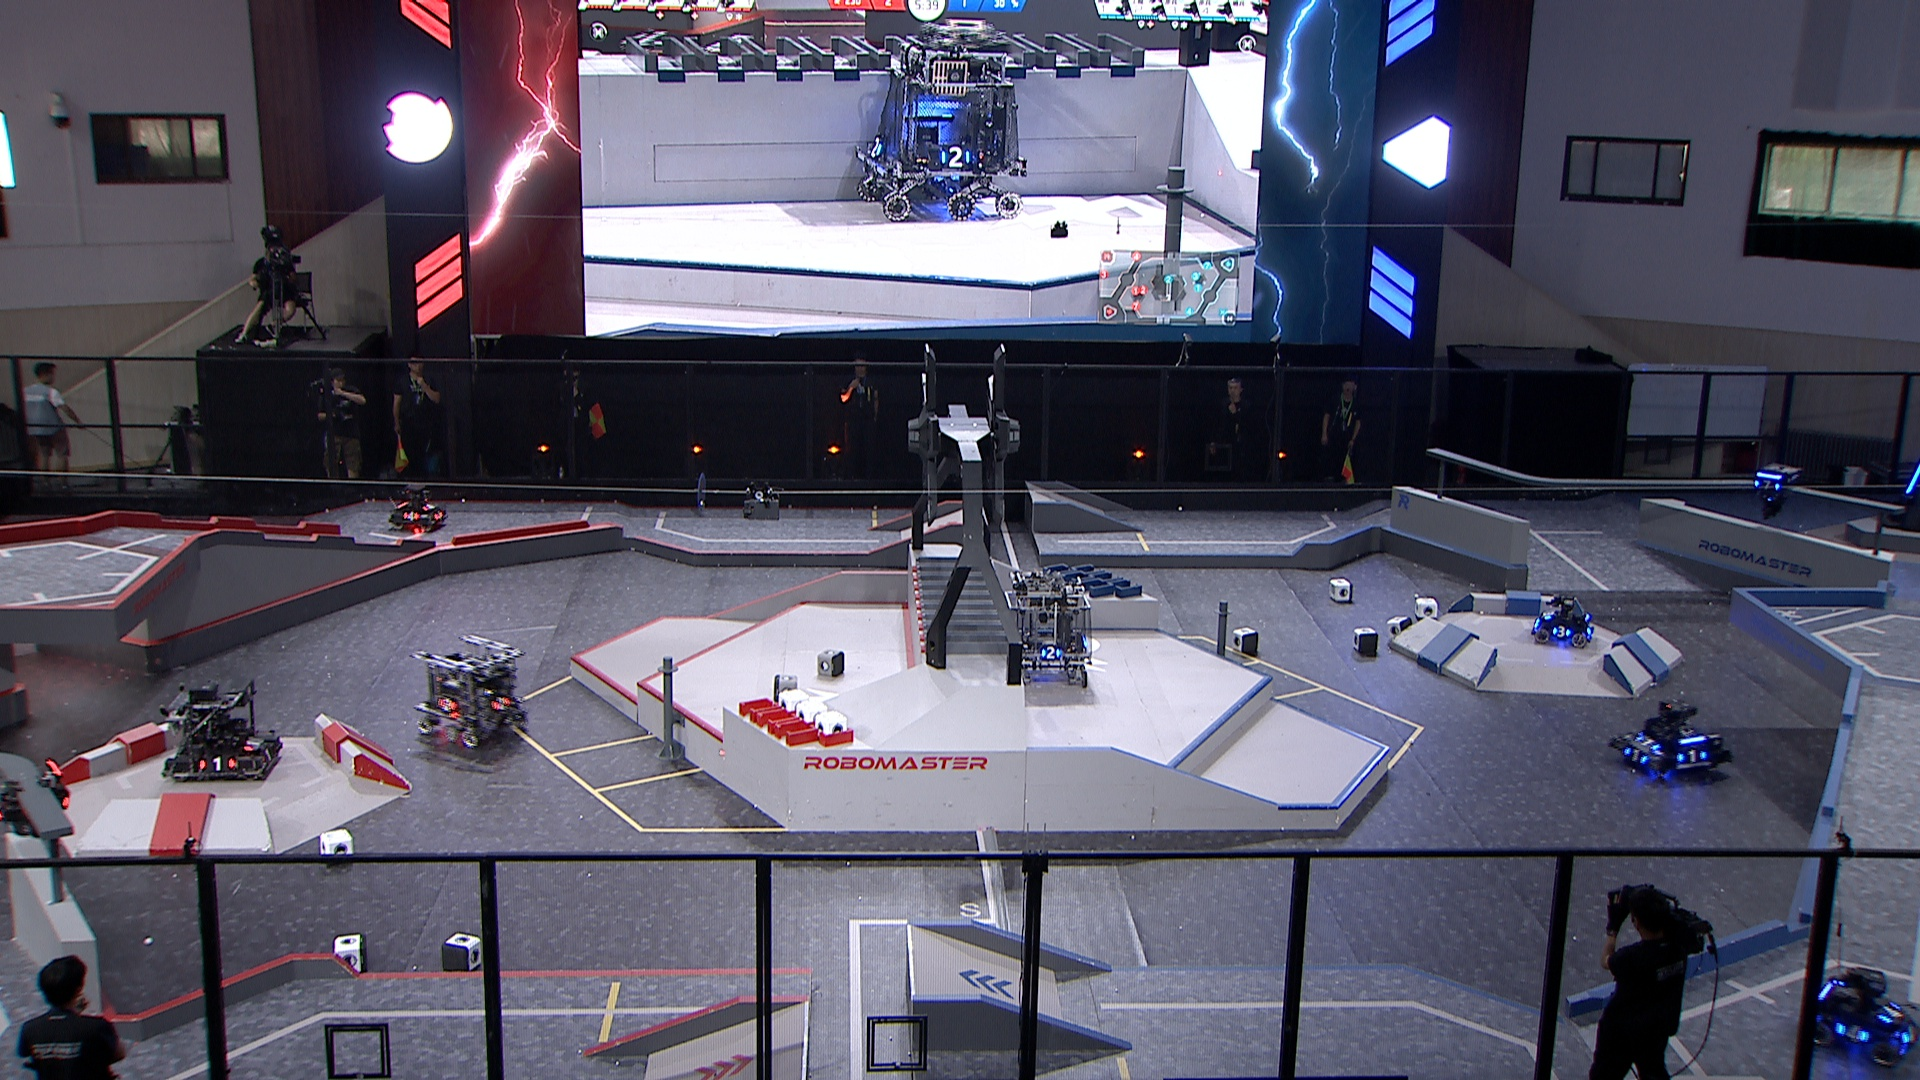armor: (1836, 1021, 1869, 1044), (196, 756, 237, 774), (1623, 745, 1650, 766), (1673, 749, 1708, 765), (1879, 1002, 1903, 1025), (1905, 462, 1920, 496), (1636, 736, 1664, 752), (438, 695, 458, 716), (491, 695, 513, 713), (243, 737, 264, 754), (258, 746, 278, 764), (1551, 624, 1572, 640), (1754, 479, 1782, 491), (1040, 646, 1063, 661), (1902, 1025, 1917, 1044), (404, 509, 422, 524), (419, 502, 438, 513), (433, 509, 444, 524), (1542, 611, 1556, 622)
base: (1880, 447, 1920, 537)
car: (409, 632, 527, 752), (160, 679, 284, 782), (1807, 967, 1920, 1065), (1607, 698, 1735, 783), (1011, 571, 1093, 687), (1528, 595, 1596, 647), (386, 484, 448, 537)
ignore: (851, 29, 1030, 223)
watcher: (1751, 463, 1803, 520)
